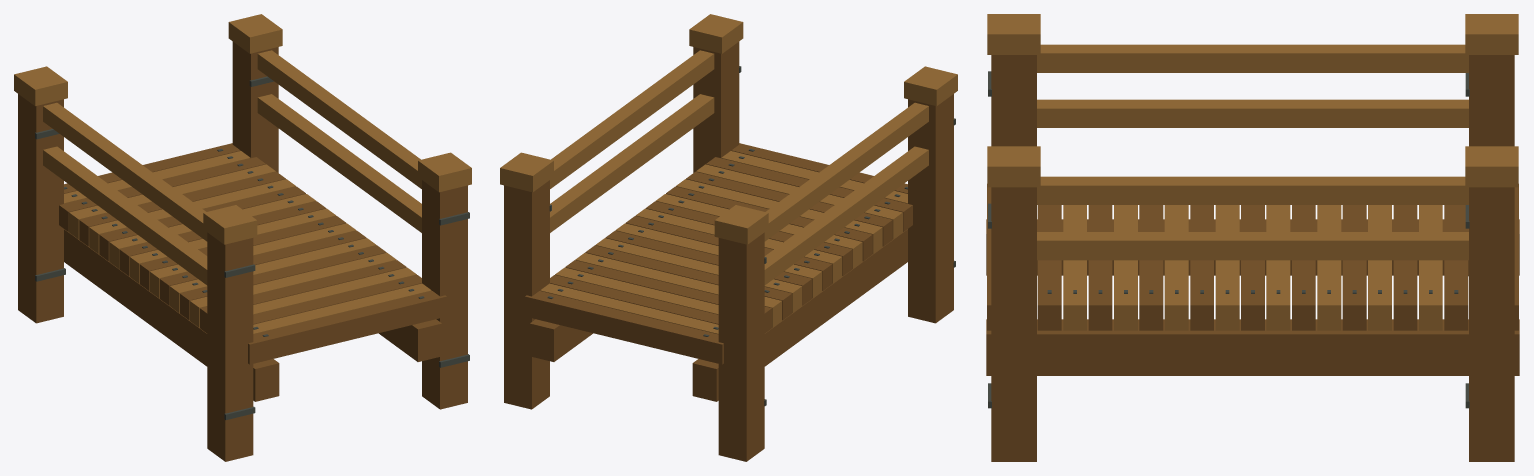
File: SM_DC_Bridge_Third.fbx
3 renders of one model, left to right at view 1: azimuth 30°, elevation 25°; view 2: azimuth 150°, elevation 25°; view 3: azimuth 270°, elevation 25°, orthographic. The views are drawn at different scales.
Parts seen in each view (by area): view 1: SM_DC_Bridge_Third; view 2: SM_DC_Bridge_Third; view 3: SM_DC_Bridge_Third.
Boxes of the visible parts, box(x1,y1,x2,y2) form: SM_DC_Bridge_Third: box(14, 14, 471, 461); SM_DC_Bridge_Third: box(500, 14, 957, 461); SM_DC_Bridge_Third: box(986, 14, 1519, 461).
Size of the model in its own units: 1.42 by 2.1 by 1.29.
